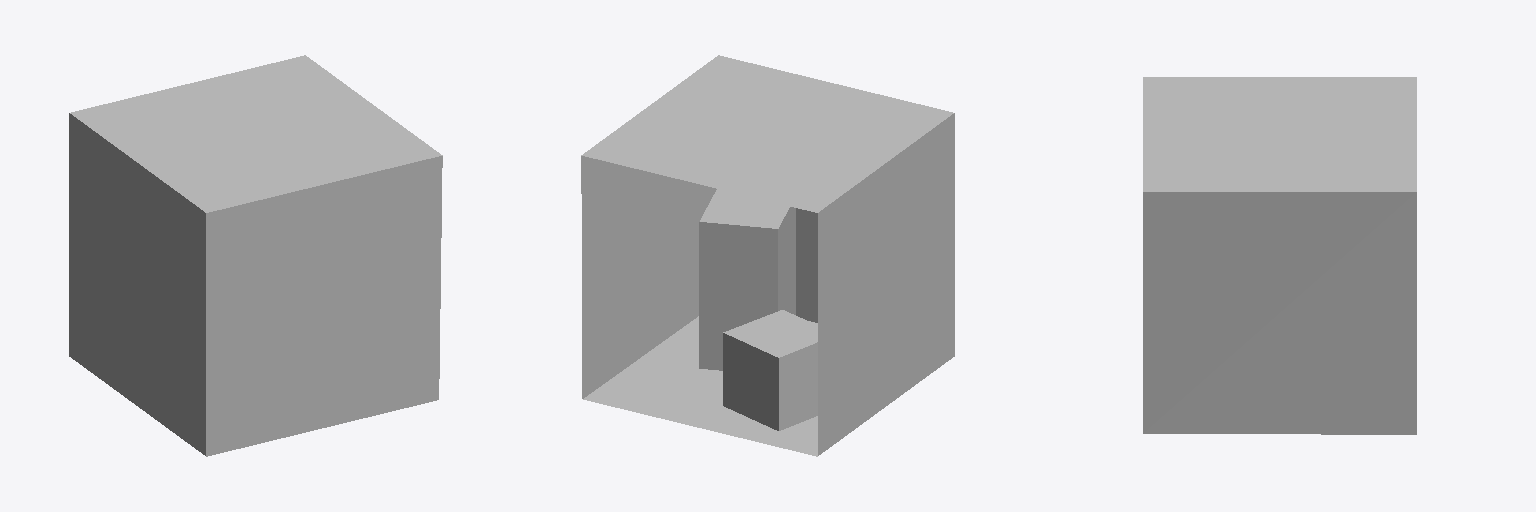
File: cornellbox.obj
3 views of the same model, side by side, from view 1: azimuth 30°, elevation 25°; view 2: azimuth 150°, elevation 25°; view 3: azimuth 270°, elevation 25° (orthographic).
Parts seen in each view (by area): view 1: object__5; view 2: object__5; view 3: object__5.
Part boxes in pixels (bbox=[...]): object__5: bbox=[69, 55, 442, 456]; object__5: bbox=[581, 55, 954, 456]; object__5: bbox=[1143, 77, 1416, 434].
Bounding box in the file's own units: 0.995 × 0.9804 × 1.